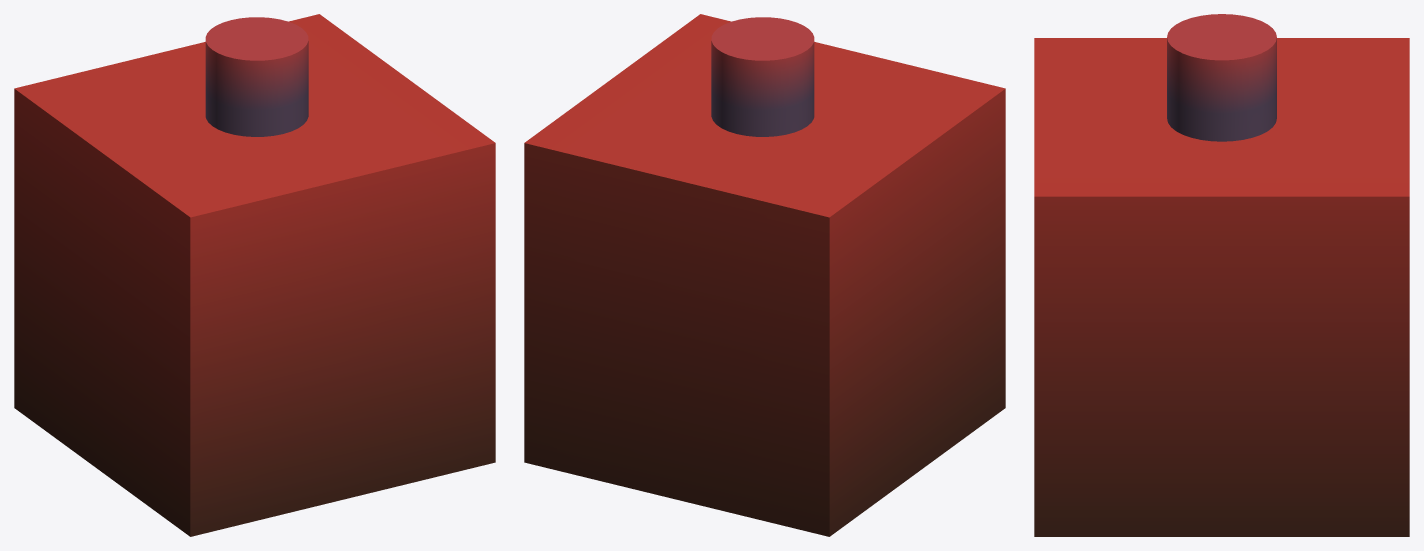
The picture shows the model from 3 angles, left to right: view 1: azimuth 30°, elevation 25°; view 2: azimuth 150°, elevation 25°; view 3: azimuth 270°, elevation 25°; orthographic projection. The views are drawn at different scales.
Visible parts, largest first — view 1: Cube, Cylinder; view 2: Cube, Cylinder; view 3: Cube, Cylinder.
Part boxes in pixels (x1,y1,x2,y2): Cube: (14, 14, 495, 536); Cylinder: (205, 17, 308, 136); Cube: (524, 14, 1005, 536); Cylinder: (711, 17, 814, 136); Cube: (1034, 38, 1409, 536); Cylinder: (1167, 14, 1276, 141).
Bounding box in the file's own units: 0.8053 × 0.9976 × 0.8053.
1 material, 1 textured.
